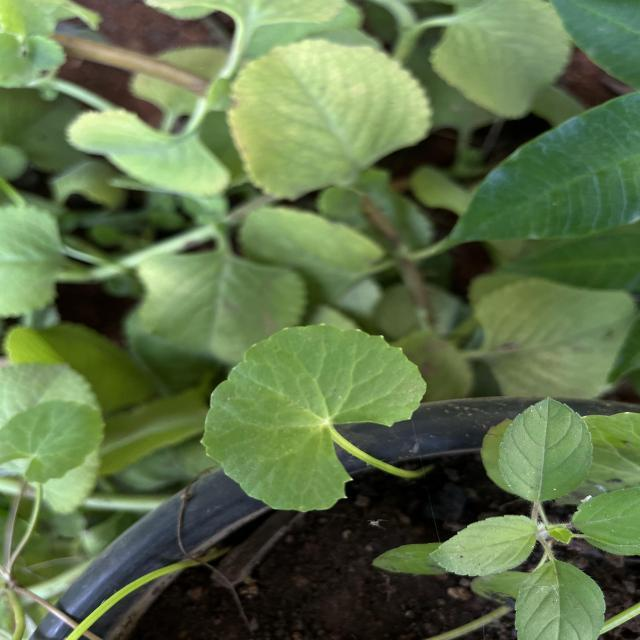Centella asiatica: (196, 318, 430, 516)
